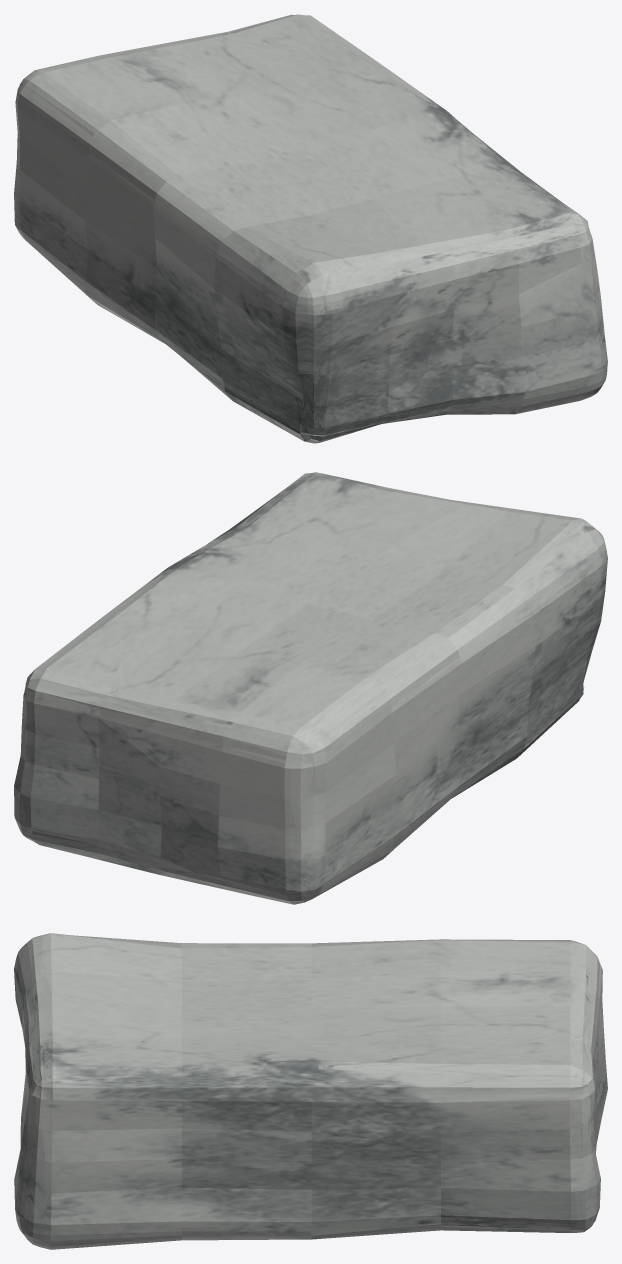
Rendered from debris_concrete_01.glb.
3 views of the same model, one above another, from view 1: azimuth 30°, elevation 25°; view 2: azimuth 150°, elevation 25°; view 3: azimuth 270°, elevation 25° (orthographic). The views are drawn at different scales.
Visible parts, largest first — view 1: Debris.001; view 2: Debris.001; view 3: Debris.001.
Boxes of the visible parts, x1,y1,x2,y2 form: Debris.001: (14, 14, 607, 443); Debris.001: (14, 472, 607, 904); Debris.001: (14, 933, 607, 1249).
Size of the model in its own units: 0.2107 by 0.1242 by 0.3519.
1 material, 1 textured.
